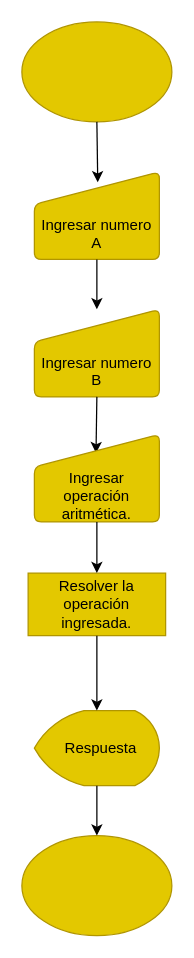
The diagram is 194 pixels wide and 958 high, and some of its shapes have lost their labels. The box of each missing label's shape, as (x1, y1, x2, y2) in pixels:
Final: (21, 834, 172, 936)
Inicio: (21, 21, 172, 122)
